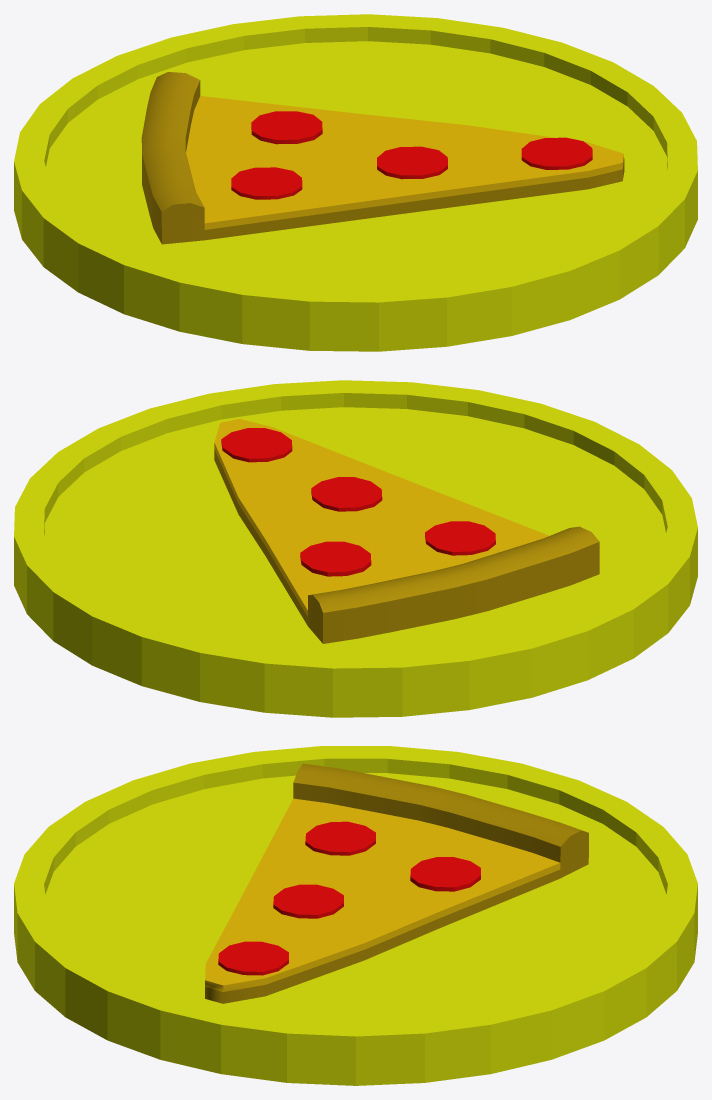
The model's file is Coin.fbx.
3 renders of one model, top to bottom at view 1: azimuth 30°, elevation 25°; view 2: azimuth 150°, elevation 25°; view 3: azimuth 270°, elevation 25°, orthographic.
Visible parts, largest first — view 1: coinnpizza1:coin, pizza, sucuk1, sucuk, sucuk3, sucuk2; view 2: coinnpizza1:coin, pizza, sucuk1, sucuk3, sucuk, sucuk2; view 3: coinnpizza1:coin, pizza, sucuk1, sucuk3, sucuk2, sucuk.
Part boxes in pixels (bbox=[...]): coinnpizza1:coin: bbox=[14, 14, 697, 351]; pizza: bbox=[141, 72, 624, 244]; sucuk1: bbox=[251, 111, 322, 144]; sucuk: bbox=[231, 167, 302, 199]; sucuk3: bbox=[377, 146, 447, 179]; sucuk2: bbox=[521, 137, 592, 169]; coinnpizza1:coin: bbox=[14, 380, 697, 717]; pizza: bbox=[214, 418, 599, 643]; sucuk1: bbox=[300, 541, 371, 576]; sucuk3: bbox=[311, 477, 382, 511]; sucuk: bbox=[425, 521, 495, 555]; sucuk2: bbox=[221, 428, 292, 462]; coinnpizza1:coin: bbox=[14, 746, 697, 1085]; pizza: bbox=[205, 763, 588, 1003]; sucuk1: bbox=[410, 857, 480, 891]; sucuk3: bbox=[273, 884, 343, 918]; sucuk2: bbox=[218, 941, 288, 975]; sucuk: bbox=[305, 821, 375, 855].
Size of the model in its own units: 9.09 by 1.49 by 9.05.
